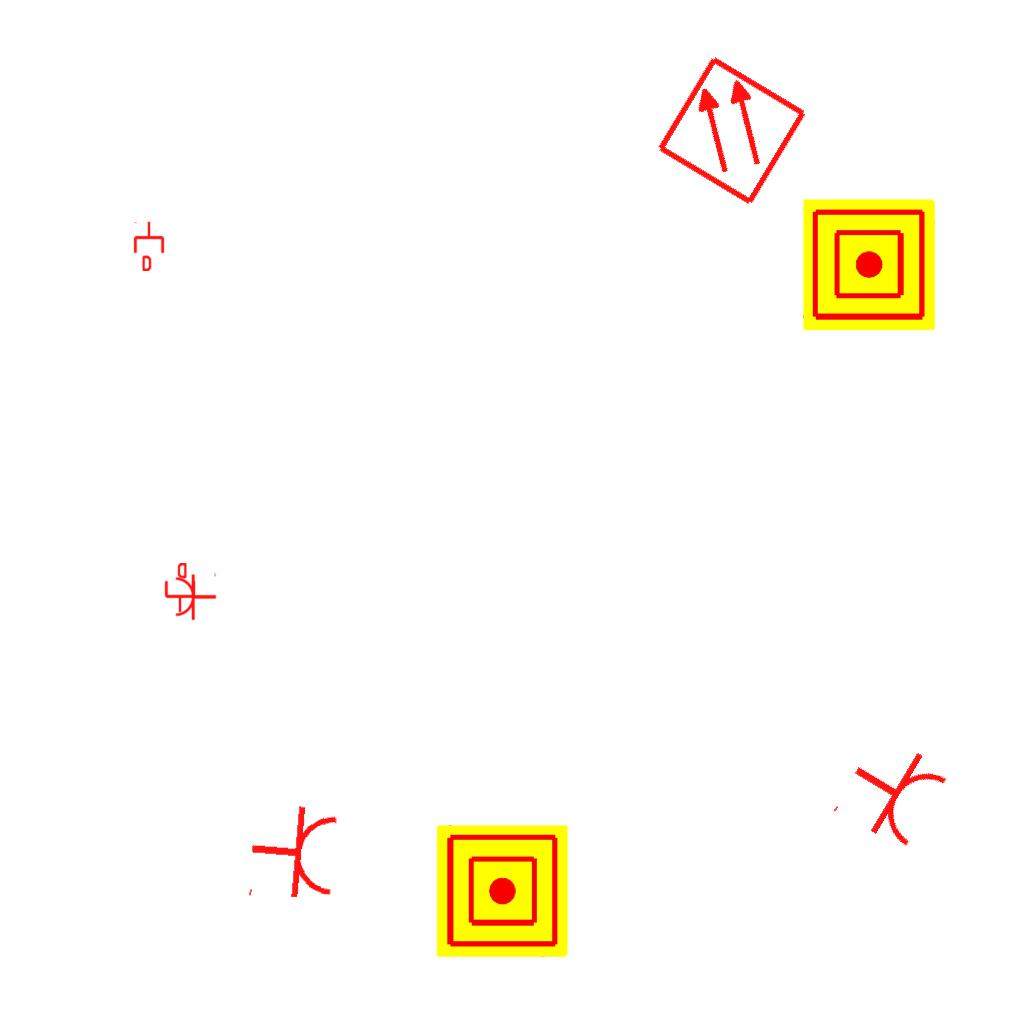Datenanschluss_einfach: (132, 221, 166, 271), (163, 563, 197, 613)
NAM-Nichtautomatischer_Melder: (803, 199, 935, 331), (436, 825, 568, 957)
RMO_Rauchmelder_optischer: (653, 52, 810, 209)
Schukosteckdose_einfach: (828, 727, 955, 859), (245, 800, 342, 908), (174, 571, 217, 621)
